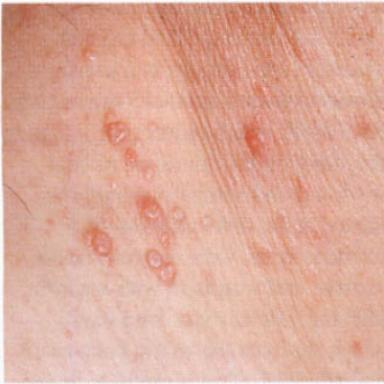Molluscum-Contagiosum: (145, 249, 177, 286), (83, 227, 113, 257), (104, 119, 130, 145), (137, 196, 163, 220)
